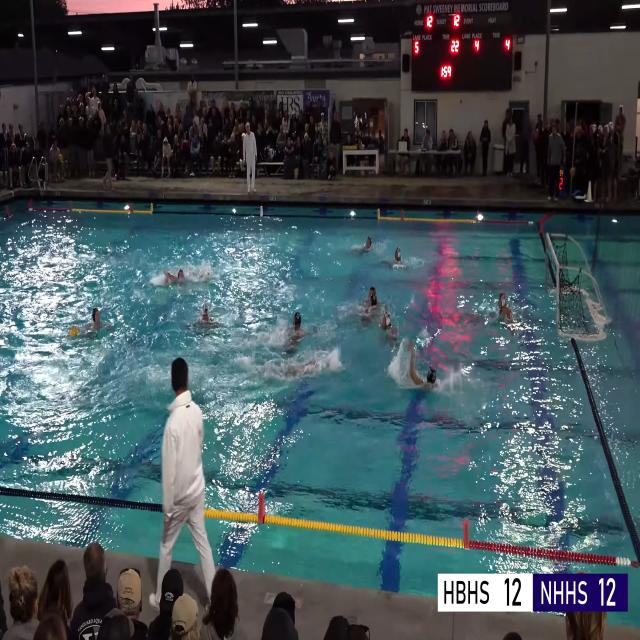ball: (69, 326, 78, 337), (570, 167, 576, 177), (58, 154, 63, 161)
